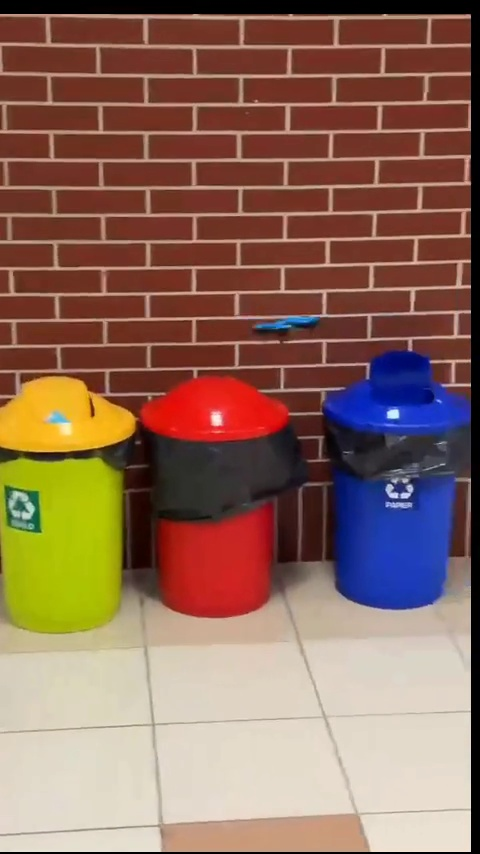drone: (256, 314, 319, 341)
